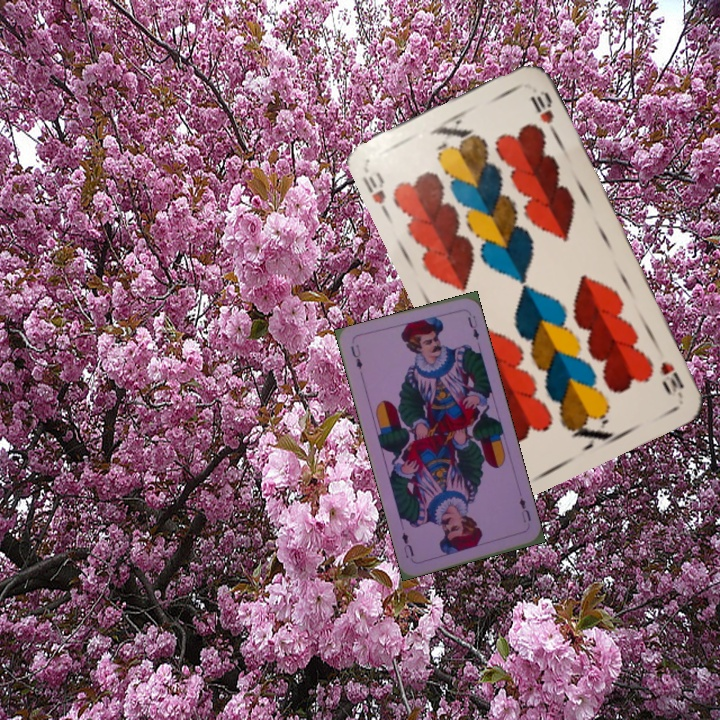EU: (515, 494, 534, 525), (347, 340, 365, 372)
H10: (358, 167, 392, 219), (656, 358, 687, 401)
